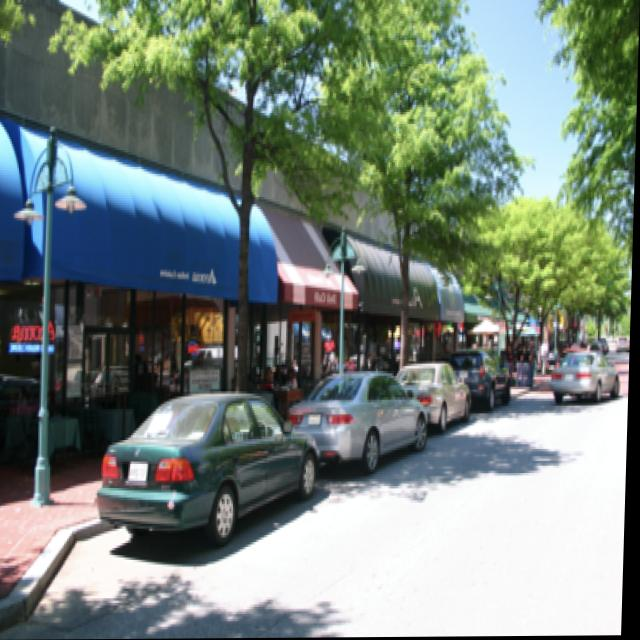licence: (124, 459, 156, 488)
